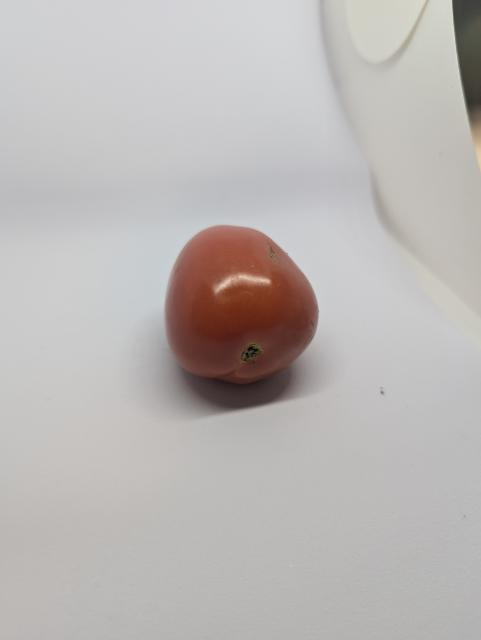red: (156, 220, 325, 392)
